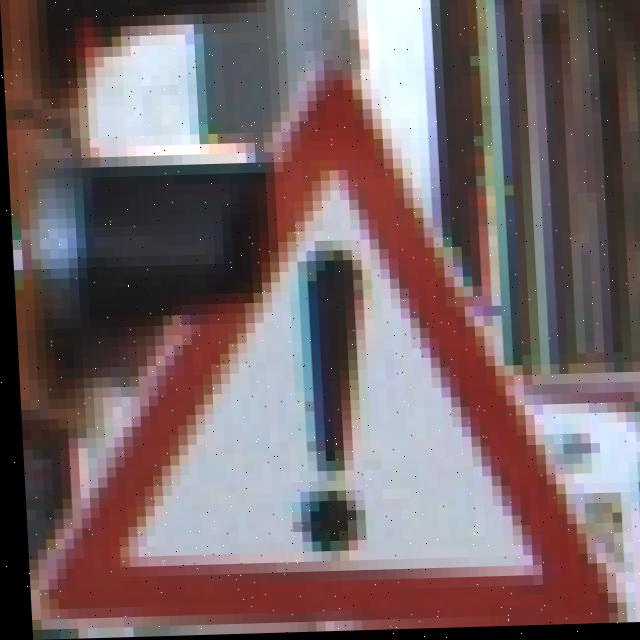warning: (42, 93, 609, 639)
